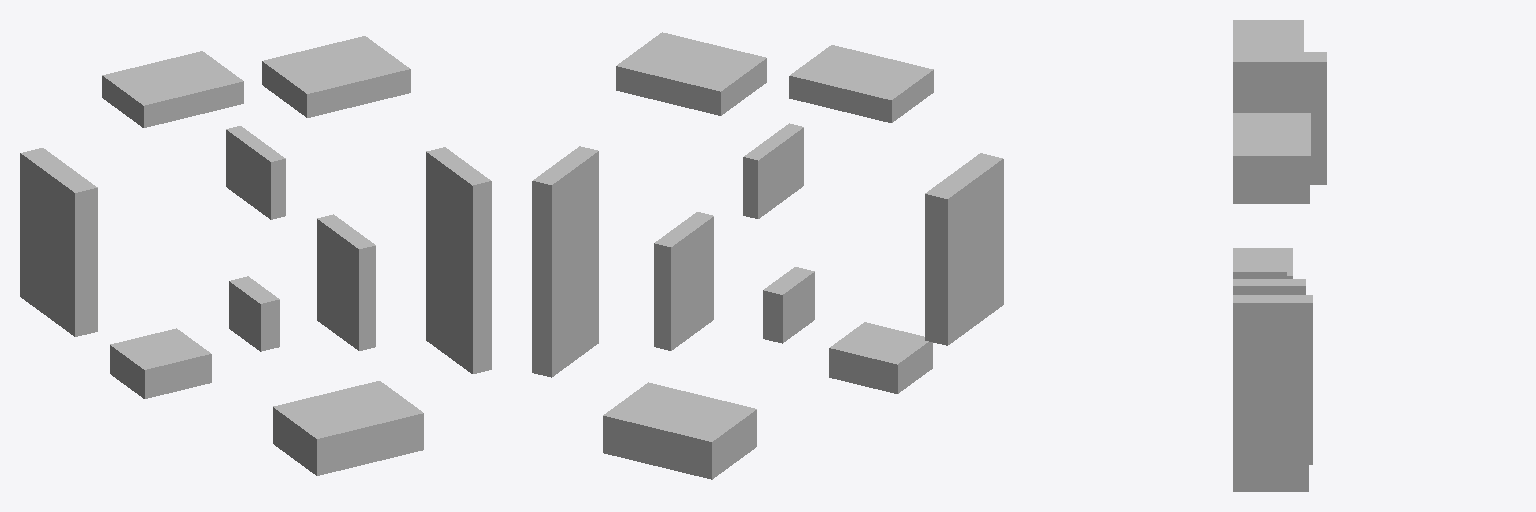
URDF robot description (last):
<?xml version="1.0" ?>
<robot name="last">
  <material name="texture_material">
    <color rgba="0.8 0.8 0.8 1.0"/>
  </material>

  <link name="baseLink">
    <inertial>
      <origin rpy="0 0 0" xyz="0 0 0"/>
      <mass value="1.0"/>
      <inertia ixx="1.0" ixy="0.0" ixz="0.0" iyy="1.0" iyz="0.0" izz="1.0"/>
    </inertial>
    
    <visual>
      <origin rpy="0 0 0" xyz="0 0 0"/>
      <geometry>
        <mesh filename="final.obj" scale="1 1 1"/>      
      </geometry>
      <material name="texture_material">
        <color rgba="0.8 0.8 0.8 1.0"/>
      </material>
    </visual>
    
    <collision>
      <origin rpy="0 0 0" xyz="0 0 0"/>
      <geometry>
        <mesh filename="final_vhacd.obj" scale="1 1 1"/>
      </geometry>
    </collision>
  </link>
</robot>

--- What the picture shows (computed from the rendered views, not written in the file) ---
Views: 3 orthographic renders of the robot side by side, from view 1: azimuth 30°, elevation 25°; view 2: azimuth 150°, elevation 25°; view 3: azimuth 270°, elevation 25°.
Model last with 1 links and 0 joints (none), rooted at baseLink, posed every joint at zero.
Visible links, largest first — view 1: baseLink; view 2: baseLink; view 3: baseLink.
Link boxes in pixels (x1=…): baseLink: x1=20, y1=36, x2=491, y2=475; baseLink: x1=532, y1=32, x2=1003, y2=479; baseLink: x1=1233, y1=20, x2=1326, y2=491.
Size in the robot's own frame: 22.83 by 5.2 by 21.64 metres.
1 mesh visuals loaded from 1 distinct referenced files (1 OBJ).